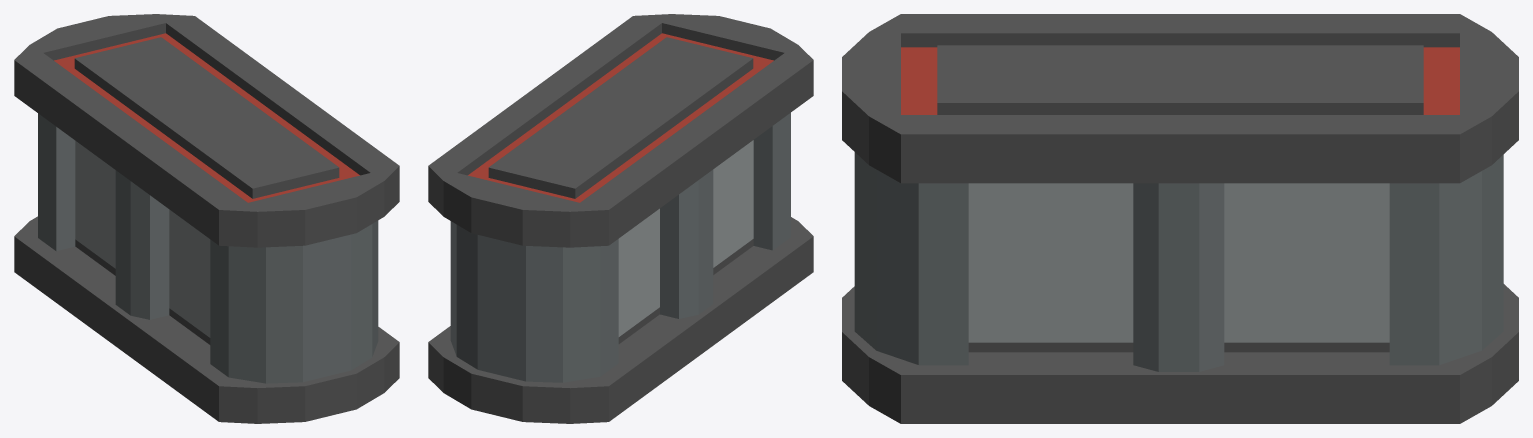
The model's file is obstacle.fbx.
The picture shows the model from 3 angles, left to right: view 1: azimuth 30°, elevation 25°; view 2: azimuth 150°, elevation 25°; view 3: azimuth 270°, elevation 25°; orthographic projection. The views are drawn at different scales.
Visible parts, largest first — view 1: Cube.012; view 2: Cube.012; view 3: Cube.012.
Boxes of the visible parts, x1,y1,x2,y2 form: Cube.012: (14,14,399,423); Cube.012: (428,14,813,423); Cube.012: (842,14,1518,423).
Bounding box in the file's own units: 325 × 364 × 772.
